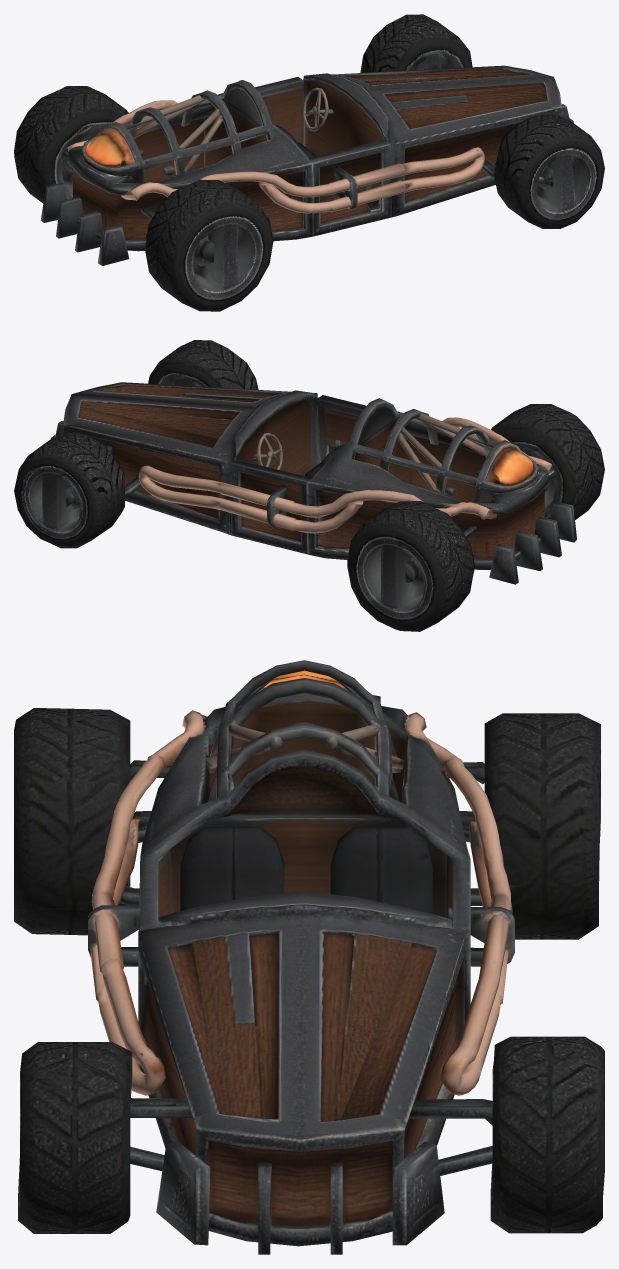
Rendered from tripo_convert_d098abc5-58b3-44cf-b686-e66986d10017.fbx.
The picture shows the model from 3 angles, top to bottom: view 1: azimuth 30°, elevation 25°; view 2: azimuth 150°, elevation 25°; view 3: azimuth 270°, elevation 25°; orthographic projection. The views are drawn at different scales.
Parts seen in each view (by area): view 1: tripo_node_d098abc5; view 2: tripo_node_d098abc5; view 3: tripo_node_d098abc5.
Boxes of the visible parts, x1=… form: tripo_node_d098abc5: x1=14, y1=14, x2=604, y2=311; tripo_node_d098abc5: x1=14, y1=340, x2=604, y2=631; tripo_node_d098abc5: x1=14, y1=660, x2=604, y2=1254.
Bounding box in the file's own units: 0.998 × 0.2871 × 0.5762.
Materials: 1 (1 with a texture image).
